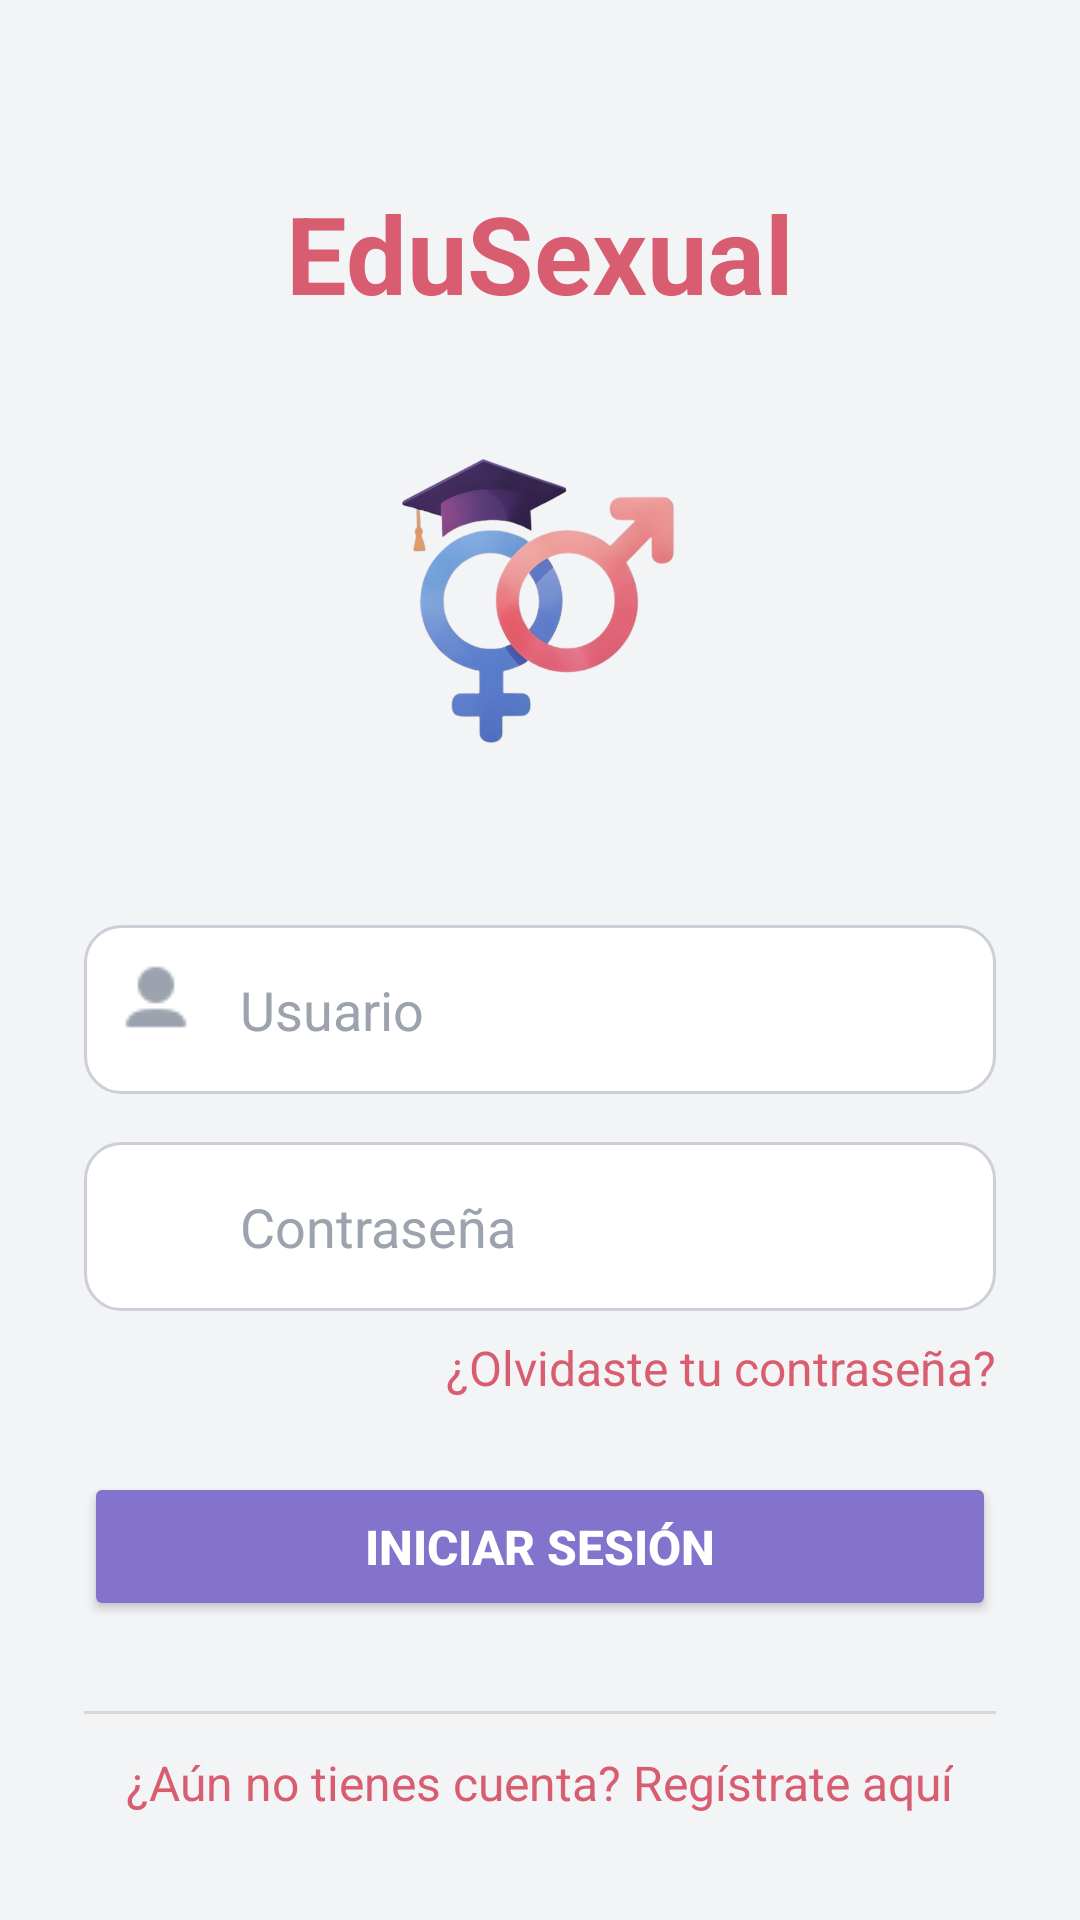

Named icons in this screenshot (1080 x 1920) and their bounding boxes, (x1, y1, x2, y2):
userpfp: (125, 966, 187, 1028)
